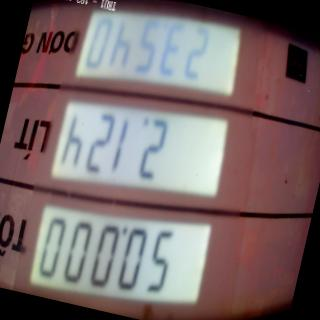screen: (17, 0, 271, 320)
